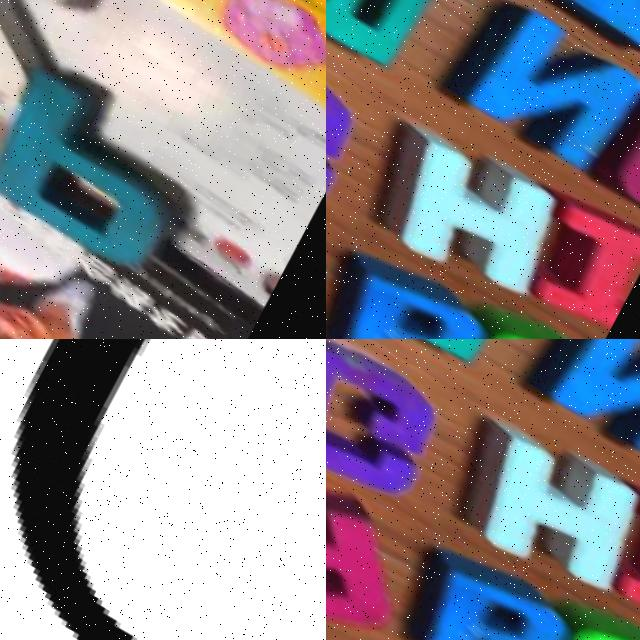A: (326, 436, 434, 640)
B: (400, 531, 588, 640), (326, 235, 505, 339)
C: (451, 294, 596, 339), (534, 590, 640, 640)
G: (326, 339, 458, 514), (326, 20, 375, 218)
H: (362, 96, 573, 301), (444, 392, 640, 596)
I: (524, 174, 640, 335), (607, 470, 640, 631)
M: (326, 0, 454, 75)
N: (450, 0, 640, 174), (533, 339, 640, 470)
O: (9, 339, 326, 640)
P: (0, 49, 211, 276)
